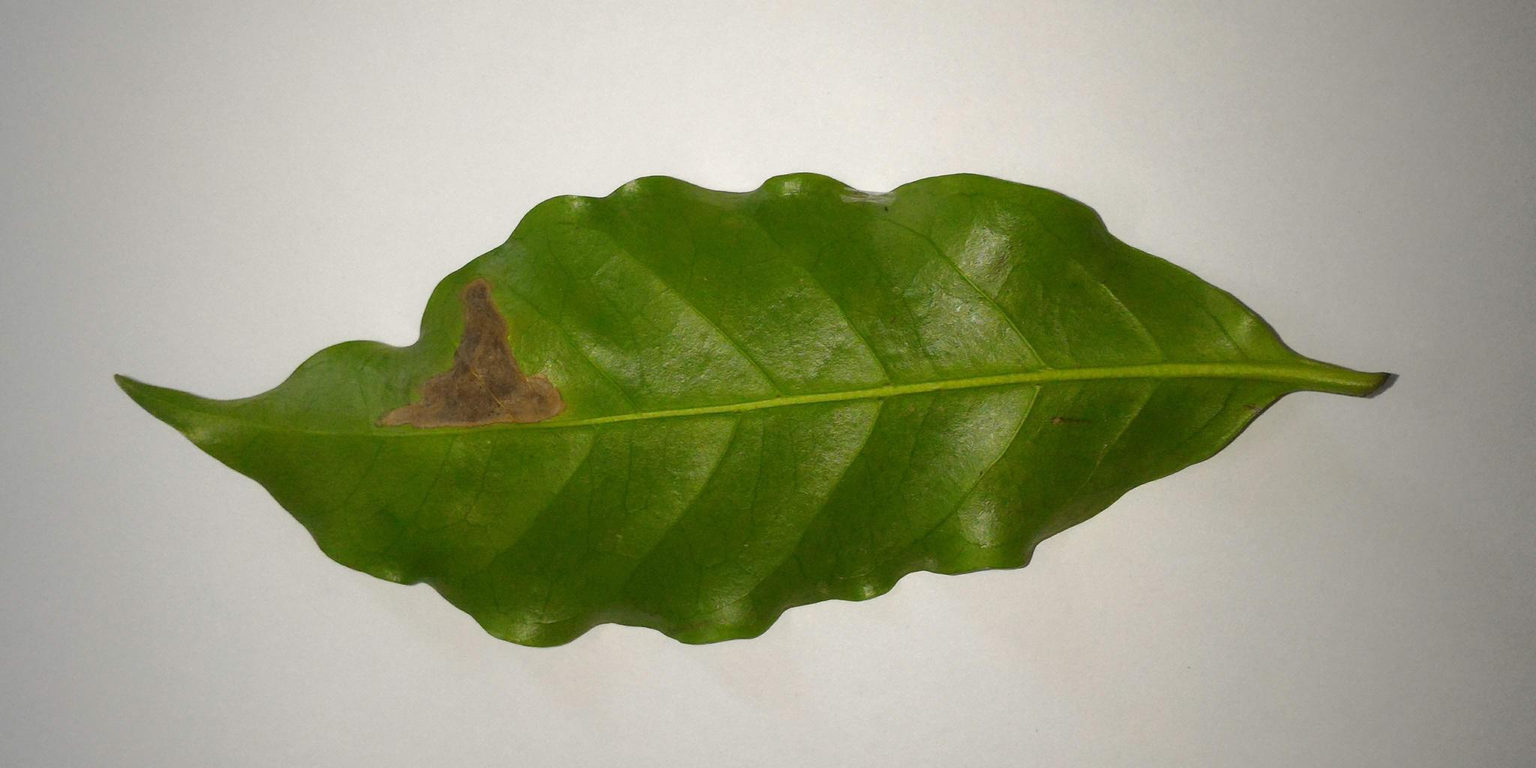Miner: (368, 271, 578, 444)
